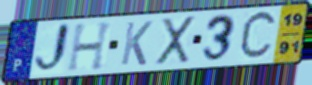3: (200, 12, 240, 65)
C: (236, 8, 279, 64)
H: (66, 20, 116, 73)
J: (33, 21, 73, 77)
K: (119, 20, 155, 67)
X: (155, 15, 197, 68)
